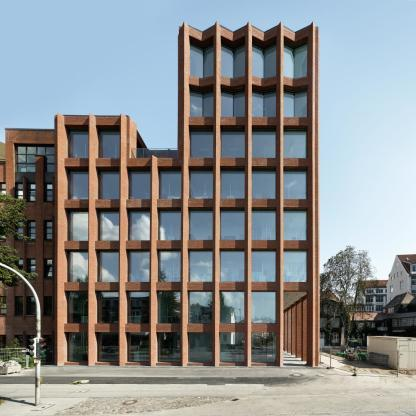Balcony: (131, 149, 178, 158)
Building Outline: (54, 20, 319, 366)
Door Hole: (284, 292, 307, 366)
Facade: (58, 150, 318, 367)
Floor: (58, 164, 319, 202), (58, 205, 319, 243), (58, 246, 319, 284), (58, 288, 284, 326), (178, 83, 319, 120), (178, 123, 319, 160), (58, 117, 130, 160)
Floor Slab: (58, 284, 319, 288), (58, 160, 319, 164), (58, 326, 284, 330), (58, 243, 319, 246), (58, 202, 319, 205), (178, 119, 319, 123), (178, 79, 319, 82)
Glass Wall: (190, 40, 215, 78), (252, 41, 277, 79), (221, 40, 245, 78), (284, 41, 307, 79), (252, 251, 277, 282), (252, 293, 277, 324), (252, 333, 277, 363), (283, 251, 307, 282), (220, 251, 244, 282), (188, 292, 212, 323), (220, 292, 244, 323), (188, 251, 212, 281), (188, 333, 212, 363), (220, 333, 244, 363), (190, 87, 214, 117), (221, 87, 245, 117), (252, 87, 276, 117), (97, 292, 120, 323), (284, 170, 308, 199), (221, 170, 245, 199), (252, 170, 276, 199), (189, 211, 213, 240), (221, 211, 245, 240), (252, 211, 276, 240), (283, 211, 307, 240), (190, 170, 214, 199), (97, 252, 120, 282), (284, 87, 307, 117), (128, 251, 150, 282), (128, 292, 150, 323), (158, 292, 180, 323), (284, 129, 308, 157), (190, 129, 214, 157), (221, 129, 245, 157), (252, 129, 276, 157), (98, 332, 120, 362), (128, 333, 150, 363), (158, 251, 180, 281), (158, 333, 180, 363), (68, 292, 89, 323), (128, 170, 150, 199), (128, 211, 150, 240), (67, 332, 88, 362), (99, 128, 120, 158), (68, 128, 89, 158), (99, 211, 120, 241), (68, 211, 89, 241), (67, 252, 88, 282), (99, 170, 120, 199), (68, 170, 89, 199), (161, 170, 182, 199), (160, 211, 181, 240)
Ground Floor: (58, 330, 284, 367)
Top Floor: (178, 32, 319, 79)
